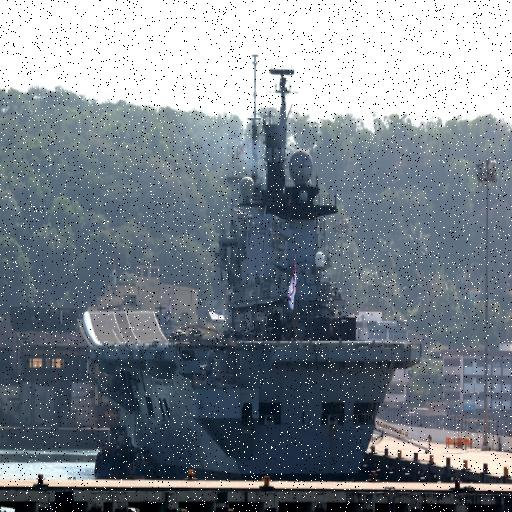Portanaves: (74, 51, 427, 482)
